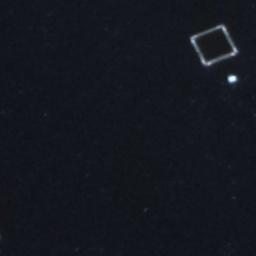square_solid: (185, 20, 242, 71)
